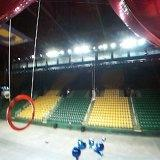Orange_Circle_GShape: (6, 93, 35, 131)
